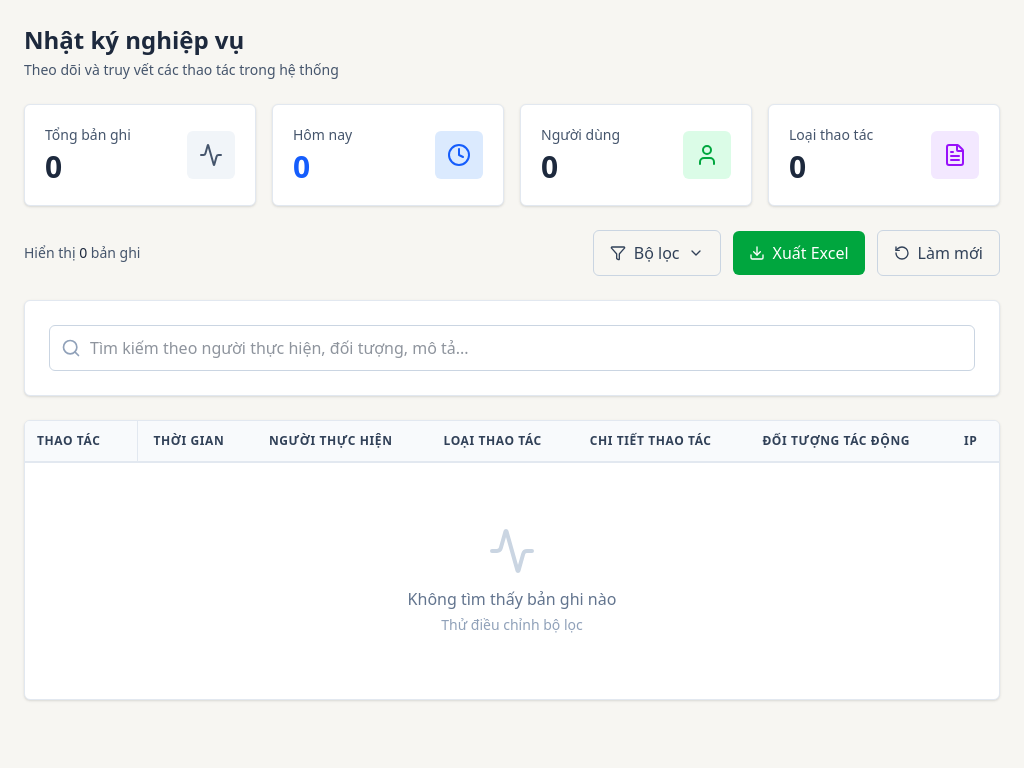
Test: ActivityLogPage — ô tìm kiếm dạng thẻ › cờ tắt → ô chữ cũ gửi `search`, dòng máy chủ trả về vẫn hiện (không lọc lại theo chữ có dấu)
In the field with placeholder "Tìm kiếm theo người thực hiện, đối tượng, mô tả...": (512, 348) [49, 325, 975, 371], type "nguyen"
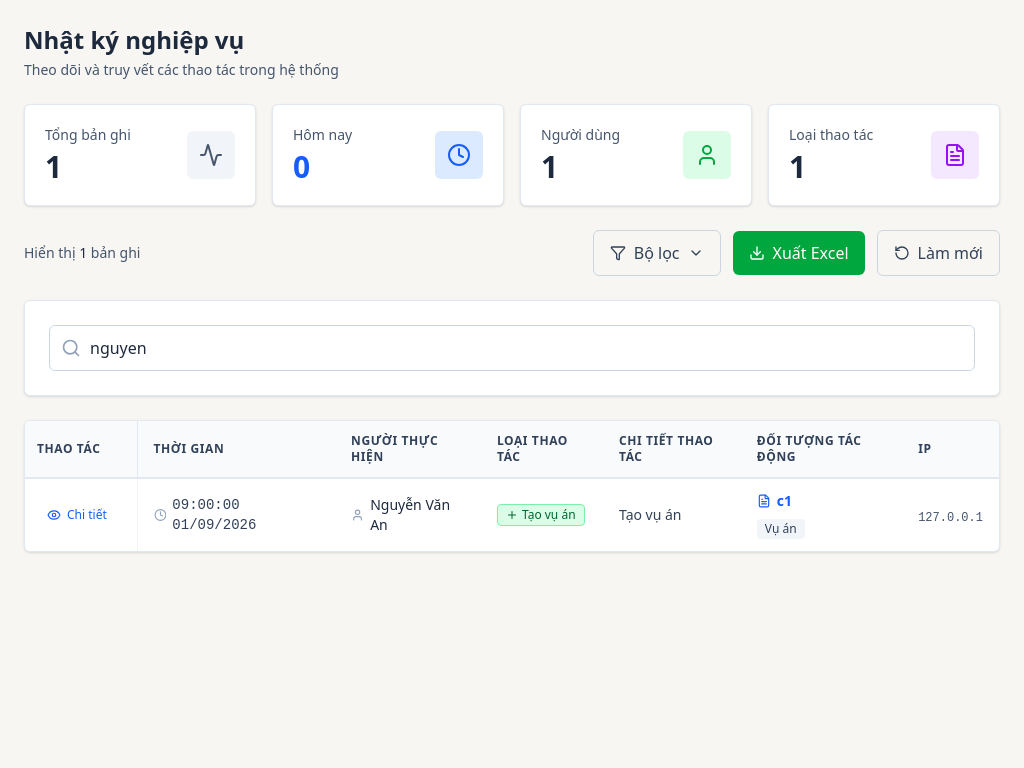
Expected: the text "Nguyễn Văn An" is shown, [370, 495, 450, 534]
